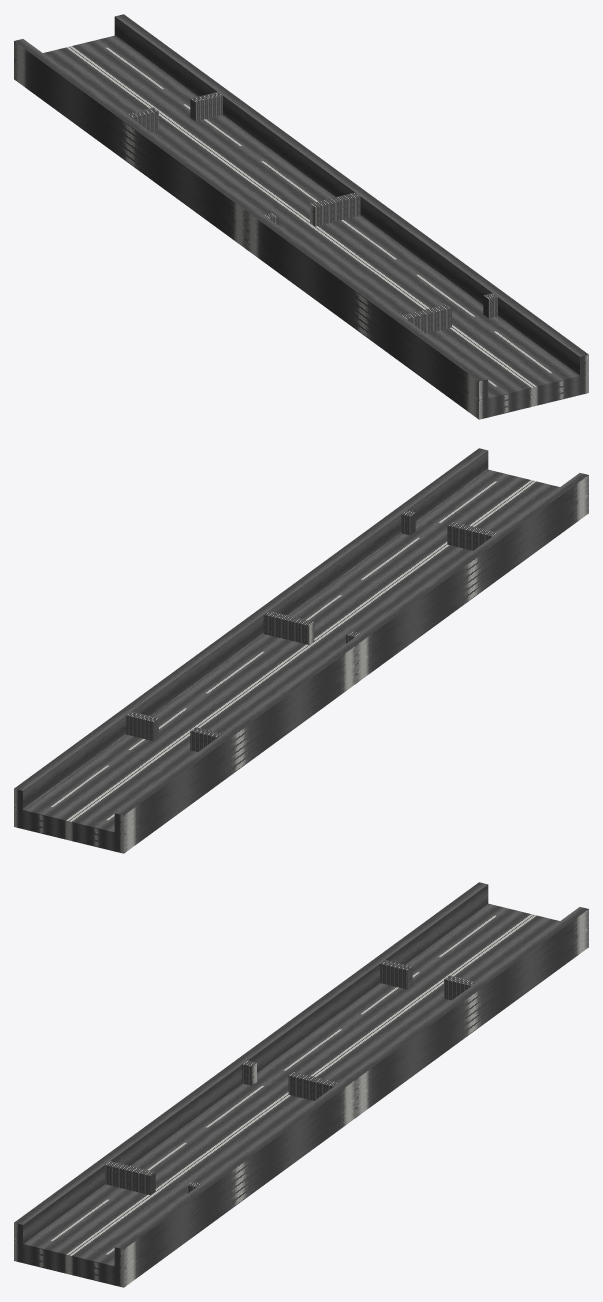
The model's file is G-Walls.obj.
The picture shows the model from 3 angles, top to bottom: view 1: azimuth 30°, elevation 25°; view 2: azimuth 150°, elevation 25°; view 3: azimuth 330°, elevation 25°; orthographic projection.
Parts seen in each view (by area): view 1: polySurface1; view 2: polySurface1; view 3: polySurface1.
Boxes of the visible parts, <box> form: polySurface1: <box>14,14,588,419</box>; polySurface1: <box>14,448,588,853</box>; polySurface1: <box>14,882,588,1287</box>.
Bounding box in the file's own units: 472 × 157 × 3460.
Materials: 1 (1 with a texture image).
